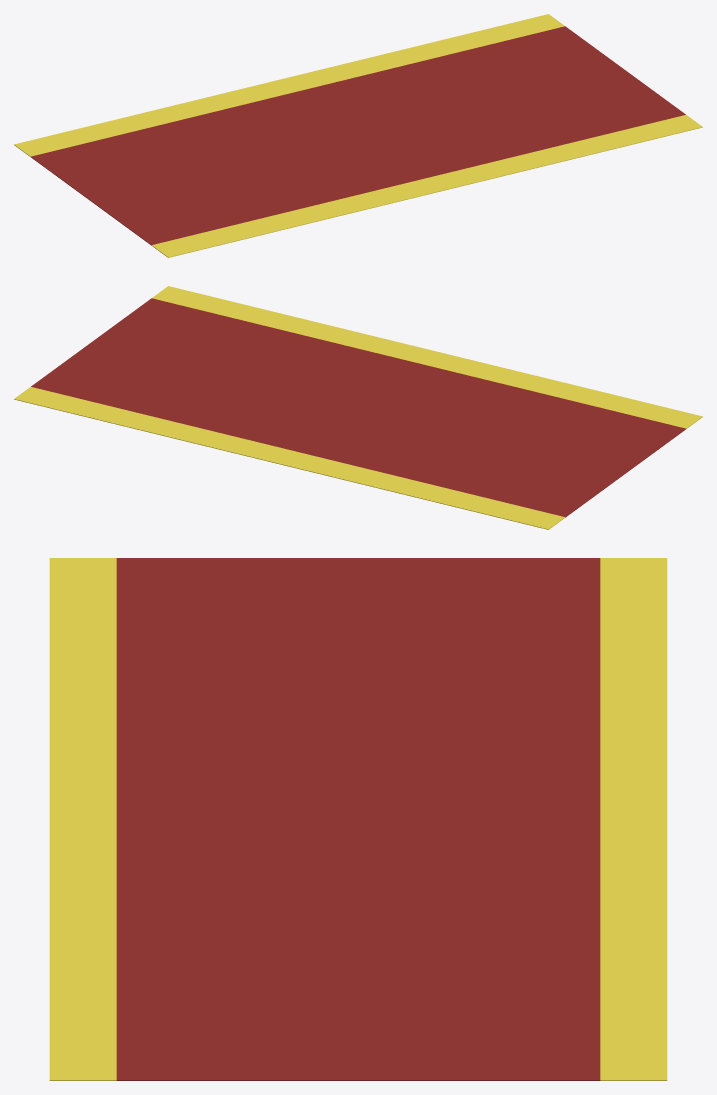
Rendered from Res01_Carpet01.fbx.
3 renders of one model, top to bottom at view 1: azimuth 30°, elevation 25°; view 2: azimuth 150°, elevation 25°; view 3: azimuth 270°, elevation 25°, orthographic. The views are drawn at different scales.
Parts seen in each view (by area): view 1: Res01_Carpet01; view 2: Res01_Carpet01; view 3: Res01_Carpet01.
Boxes of the visible parts, <box> form: Res01_Carpet01: <box>14,14,702,257</box>; Res01_Carpet01: <box>14,286,702,529</box>; Res01_Carpet01: <box>49,558,667,1080</box>.
Bounding box in the file's own units: 1000 × 1 × 500.
